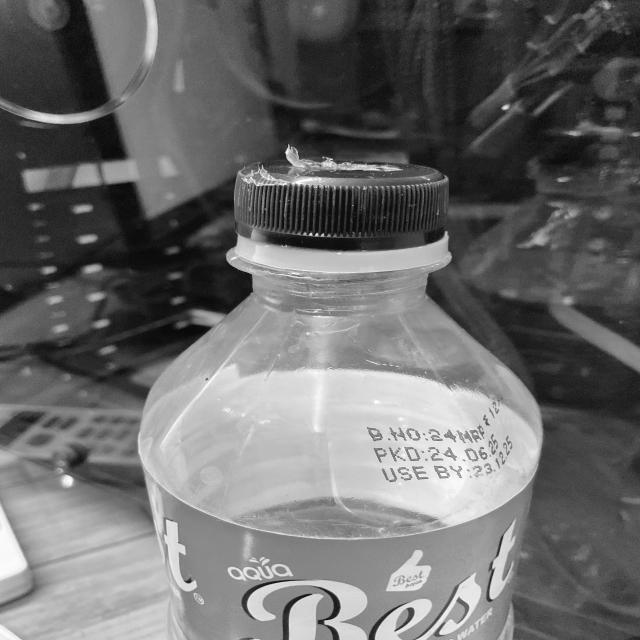Good-cap-Df0S: (223, 157, 465, 277)
